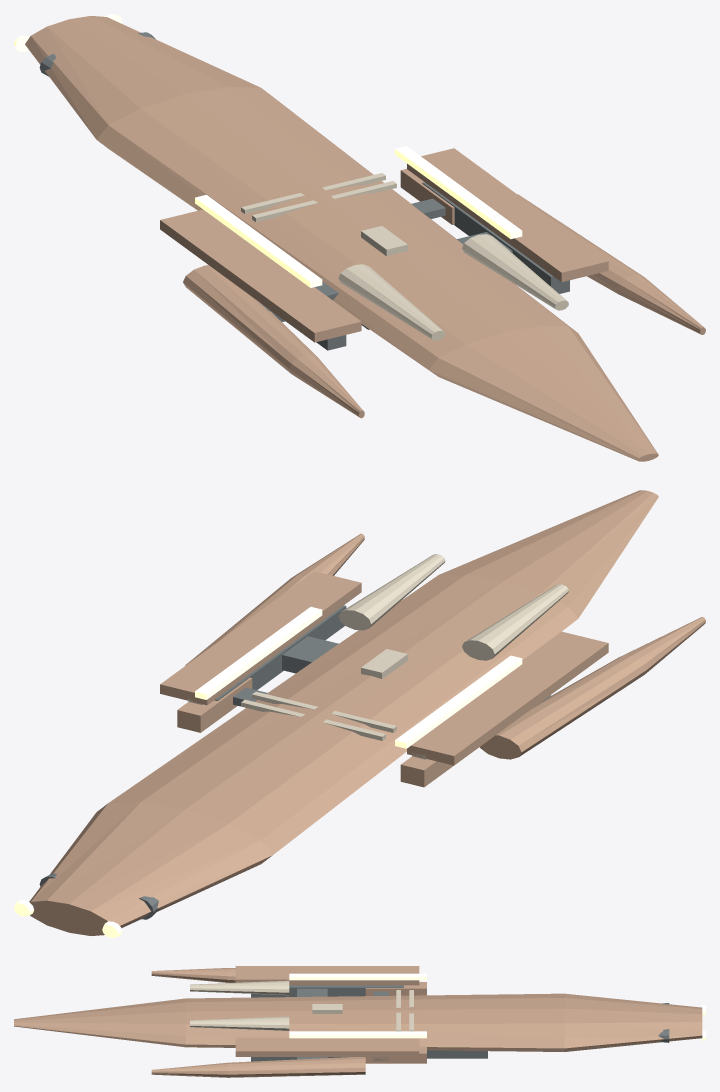
3 renders of one model, top to bottom at view 1: azimuth 30°, elevation 25°; view 2: azimuth 150°, elevation 25°; view 3: azimuth 270°, elevation 25°, orthographic. The views are drawn at different scales.
Bounding box in the file's own units: 6.99 × 1.51 × 19.73.
